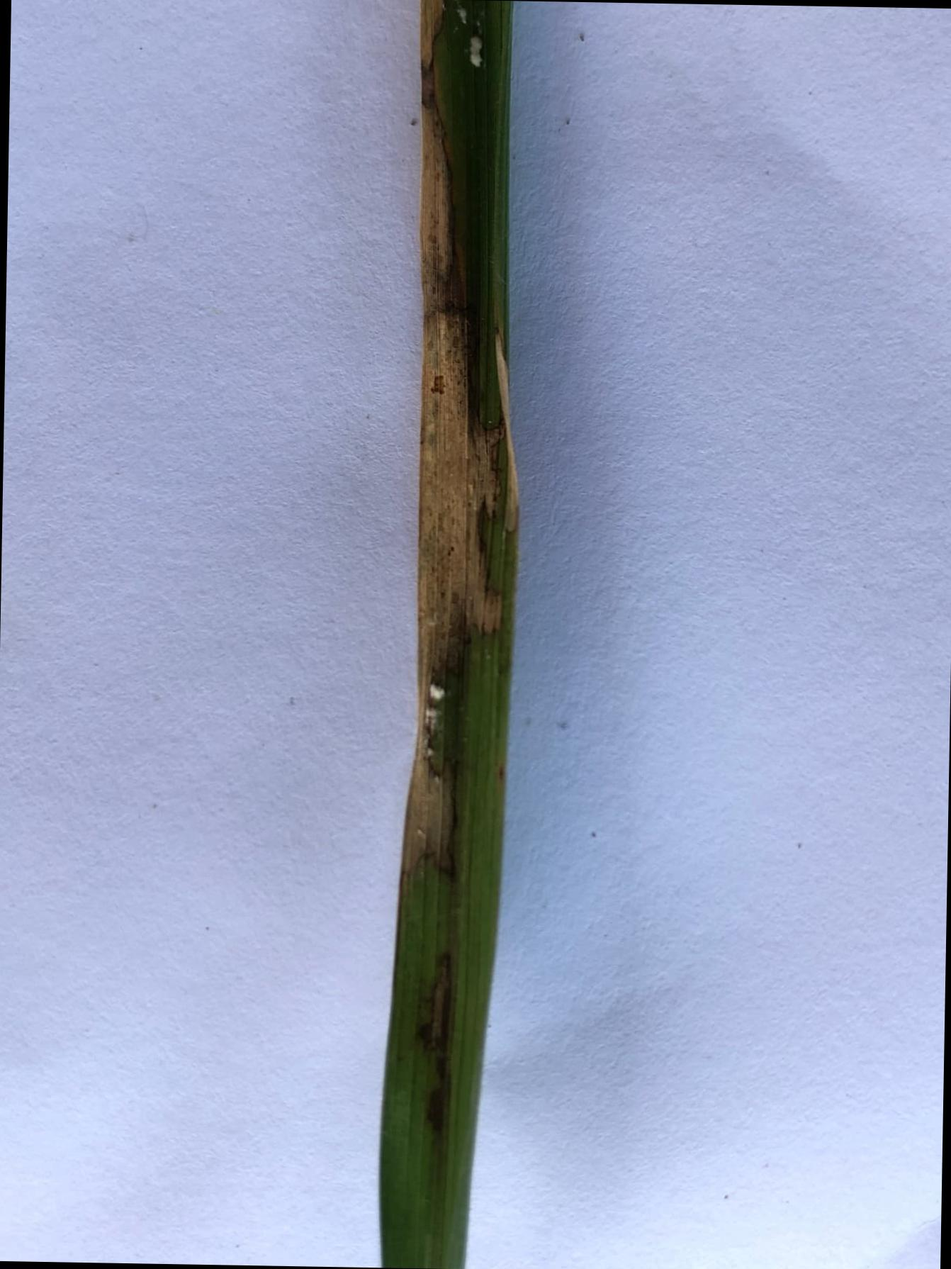Leaf Blight: (405, 113, 501, 879), (490, 324, 519, 531), (420, 0, 444, 61)
